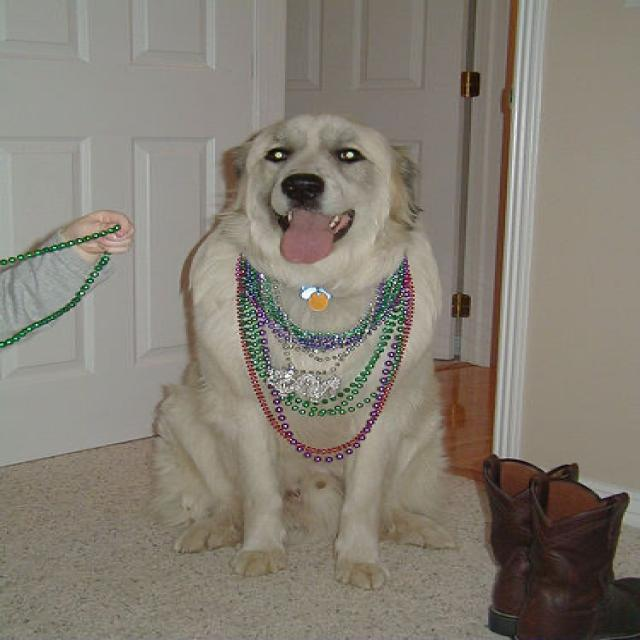dog: (230, 113, 412, 261)
